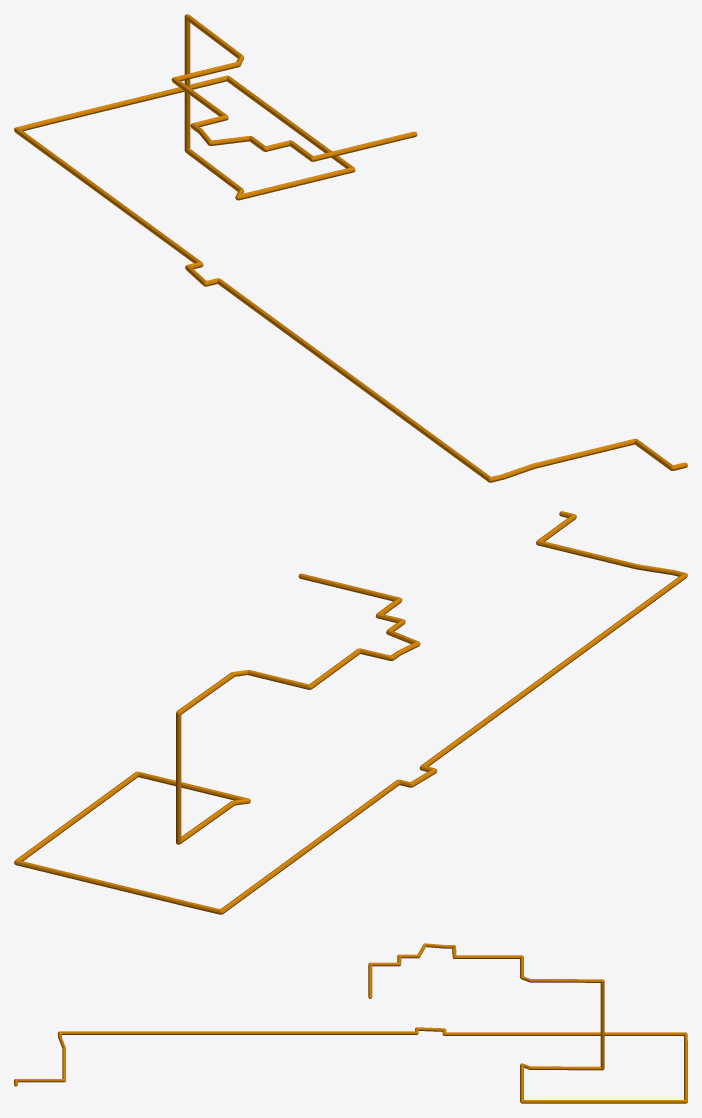
The picture shows the model from 3 angles, top to bottom: view 1: azimuth 30°, elevation 25°; view 2: azimuth 150°, elevation 25°; view 3: azimuth 270°, elevation 25°; orthographic projection. The views are drawn at different scales.
Bounding box in the file's own units: 912 × 520 × 3494.
